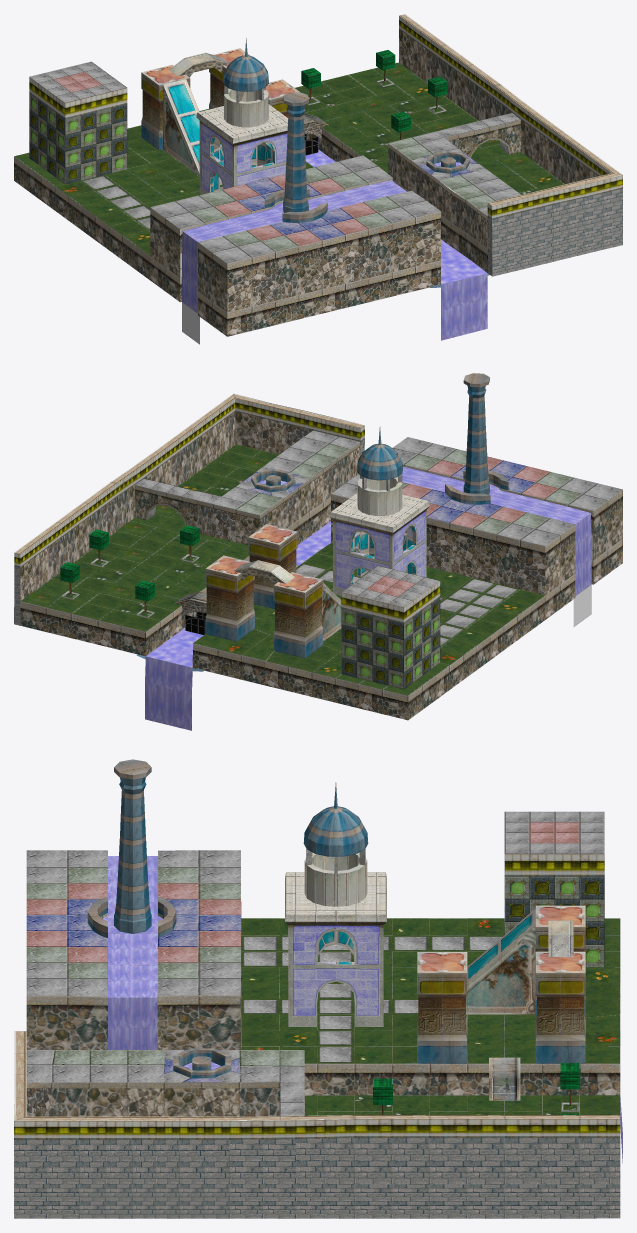
The model's file is test-zone2.glb.
3 renders of one model, top to bottom at view 1: azimuth 30°, elevation 25°; view 2: azimuth 150°, elevation 25°; view 3: azimuth 270°, elevation 25°, orthographic. The views are drawn at different scales.
Visible parts, largest first — view 1: Frame_10; view 2: Frame_10; view 3: Frame_10.
Boxes of the visible parts, <box> form: Frame_10: <box>14,14,622,344</box>; Frame_10: <box>14,373,622,730</box>; Frame_10: <box>14,759,622,1218</box>.
Size of the model in its own units: 126 by 76.5 by 122.
Materials: 1 (1 with a texture image).
